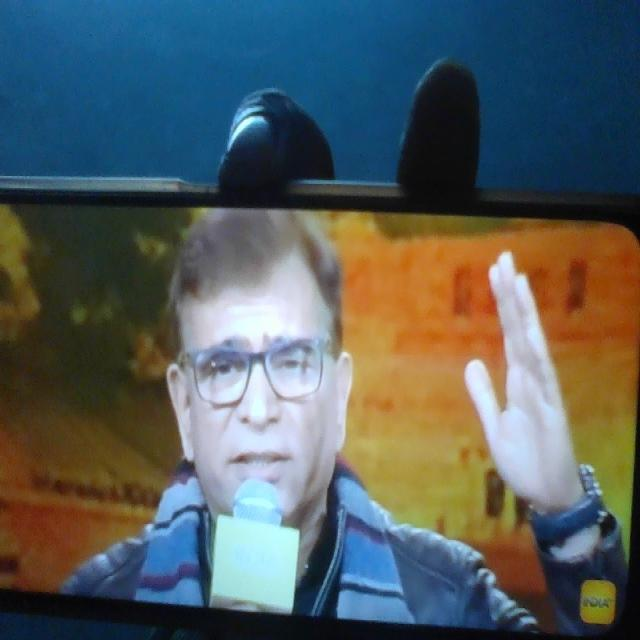fake: (164, 192, 353, 549)
